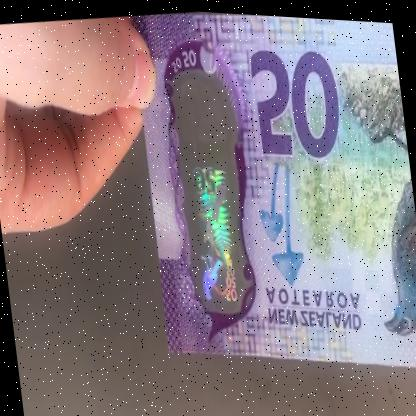50B: (176, 85, 250, 306)
